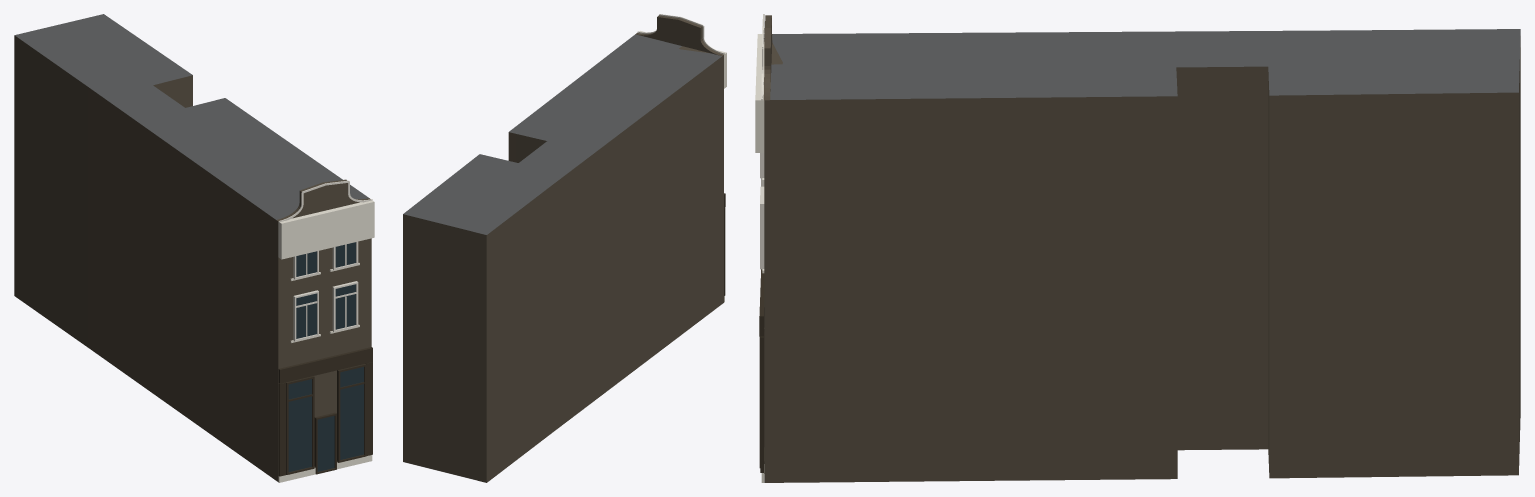
The picture shows the model from 3 angles, left to right: view 1: azimuth 30°, elevation 25°; view 2: azimuth 150°, elevation 25°; view 3: azimuth 270°, elevation 25°; orthographic projection. The views are drawn at different scales.
Parts seen in each view (by area): view 1: spec-0363100012172755; view 2: spec-0363100012172755; view 3: spec-0363100012172755.
Part boxes in pixels (bbox=[...]): spec-0363100012172755: bbox=[14, 14, 374, 482]; spec-0363100012172755: bbox=[403, 14, 726, 482]; spec-0363100012172755: bbox=[755, 14, 1520, 482].
Bounding box in the file's own units: 4.64 × 12.86 × 21.08.
